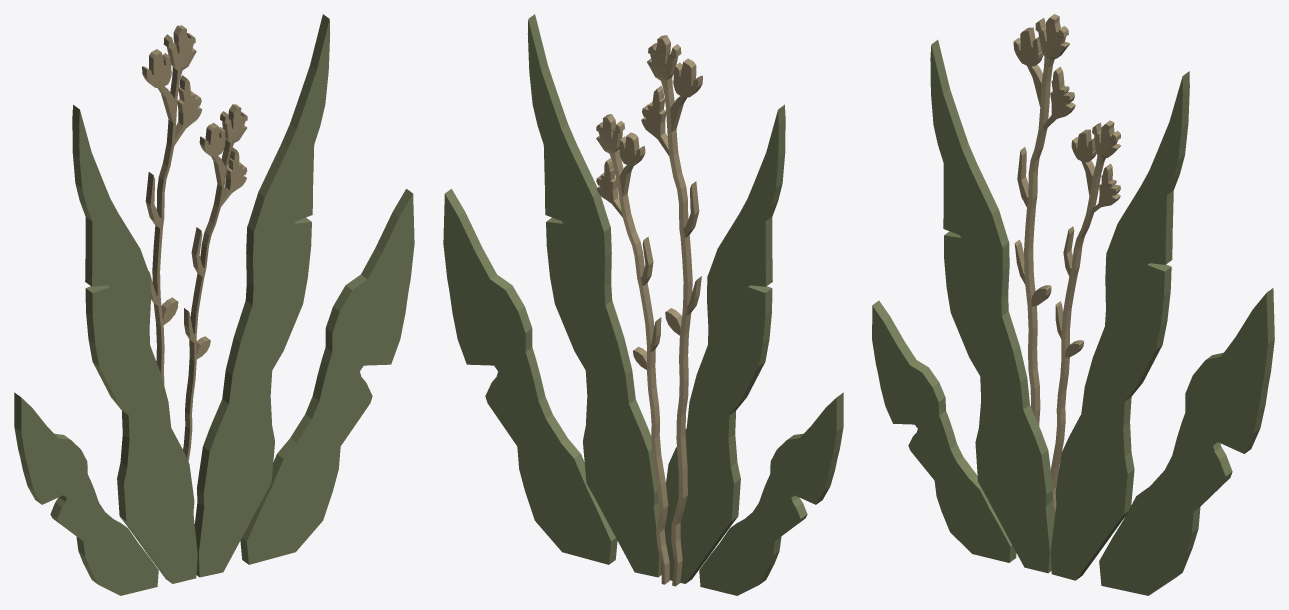
The model's file is Leaves_3.fbx.
3 renders of one model, left to right at view 1: azimuth 30°, elevation 25°; view 2: azimuth 150°, elevation 25°; view 3: azimuth 330°, elevation 25°, orthographic.
Visible parts, largest first — view 1: pPlane20, pPlane16, pPlane19, pPlane15, pPlane18, pPlane17; view 2: pPlane20, pPlane16, pPlane19, pPlane15, pPlane18, pPlane17; view 3: pPlane20, pPlane16, pPlane19, pPlane15, pPlane18, pPlane17.
Part boxes in pixels (x1,y1,x2,y2): pPlane20: (194, 14, 330, 577); pPlane16: (72, 105, 197, 583); pPlane19: (240, 189, 414, 564); pPlane15: (14, 392, 158, 595); pPlane18: (142, 25, 202, 385); pPlane17: (183, 104, 247, 461); pPlane20: (527, 14, 661, 577); pPlane16: (660, 104, 785, 583); pPlane19: (443, 189, 617, 564); pPlane15: (699, 392, 843, 595); pPlane18: (641, 35, 702, 586); pPlane17: (596, 114, 669, 584); pPlane20: (1051, 71, 1189, 580); pPlane16: (930, 40, 1054, 573); pPlane19: (1099, 288, 1274, 595); pPlane15: (872, 300, 1016, 562); pPlane18: (1013, 14, 1075, 425); pPlane17: (1051, 120, 1120, 519).
Size of the model in its own units: 1.91 by 2.53 by 0.1096.
